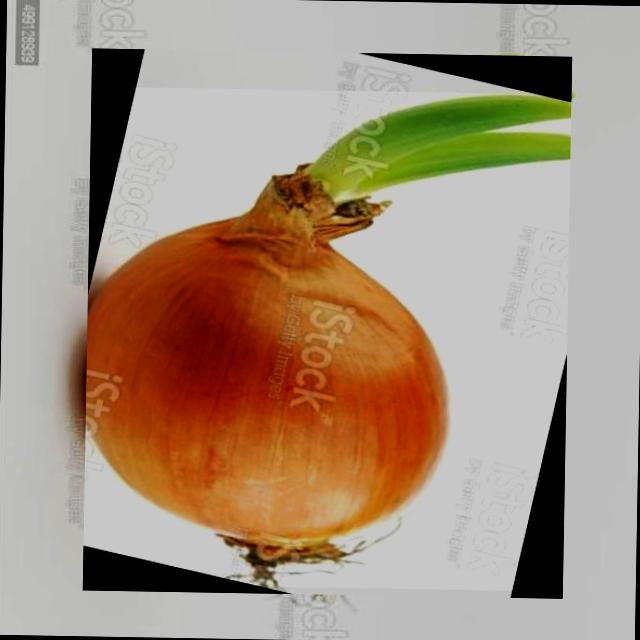sprouting: (85, 94, 571, 586)
